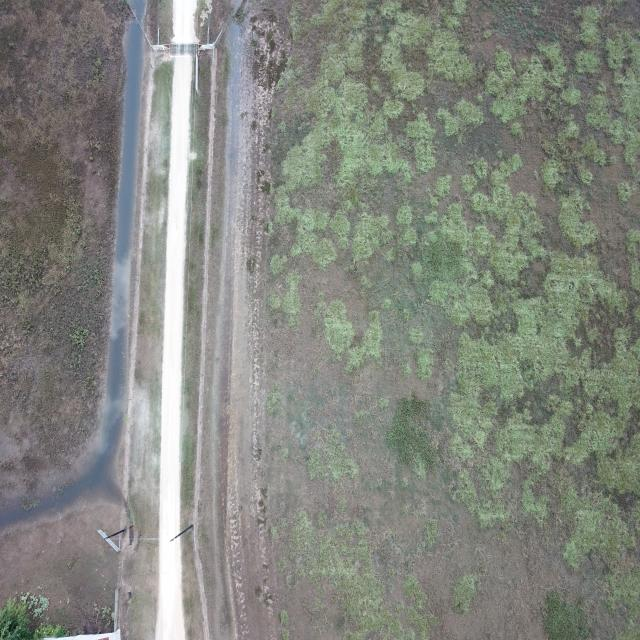fire: (0, 18, 143, 529)
